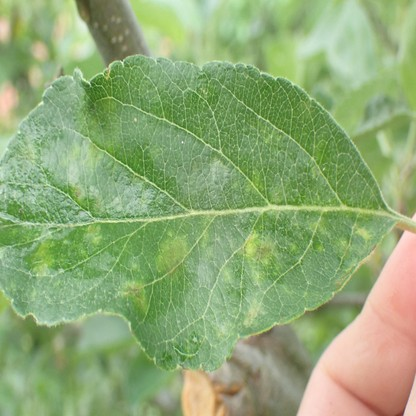scab: (156, 236, 189, 275), (246, 236, 275, 280), (61, 142, 102, 167), (118, 281, 146, 308), (243, 300, 259, 326), (86, 225, 103, 246), (221, 267, 234, 284), (32, 264, 48, 277), (337, 239, 348, 257), (308, 221, 324, 233), (356, 228, 370, 239), (73, 187, 85, 197), (289, 241, 296, 249), (316, 244, 323, 252)
